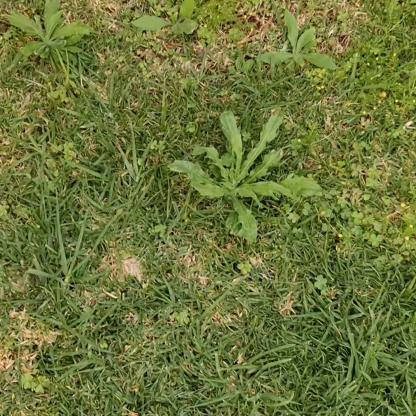Weeds: (165, 108, 324, 243), (9, 0, 90, 65), (262, 7, 336, 73), (133, 3, 200, 44)
